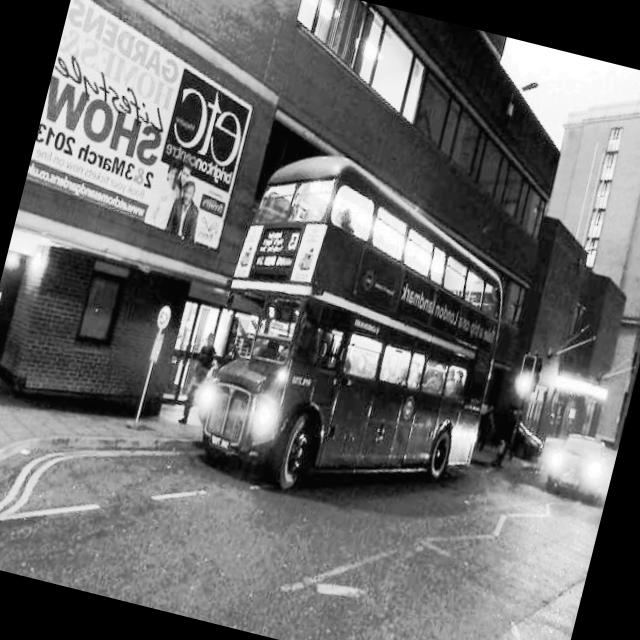Bus: (166, 137, 564, 536)
Car: (524, 404, 624, 520)
